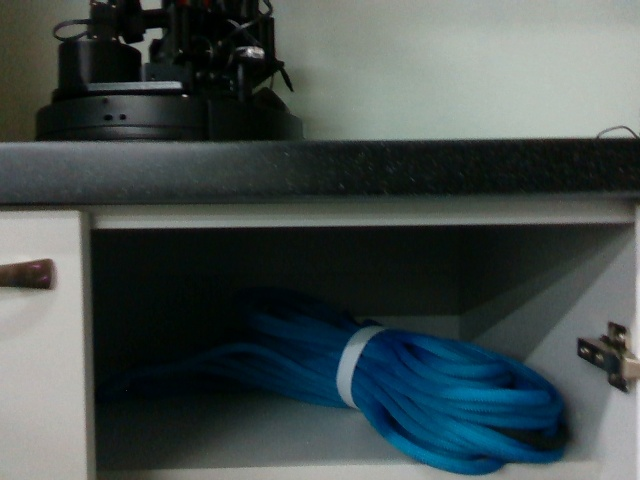rope: (202, 297, 570, 472)
